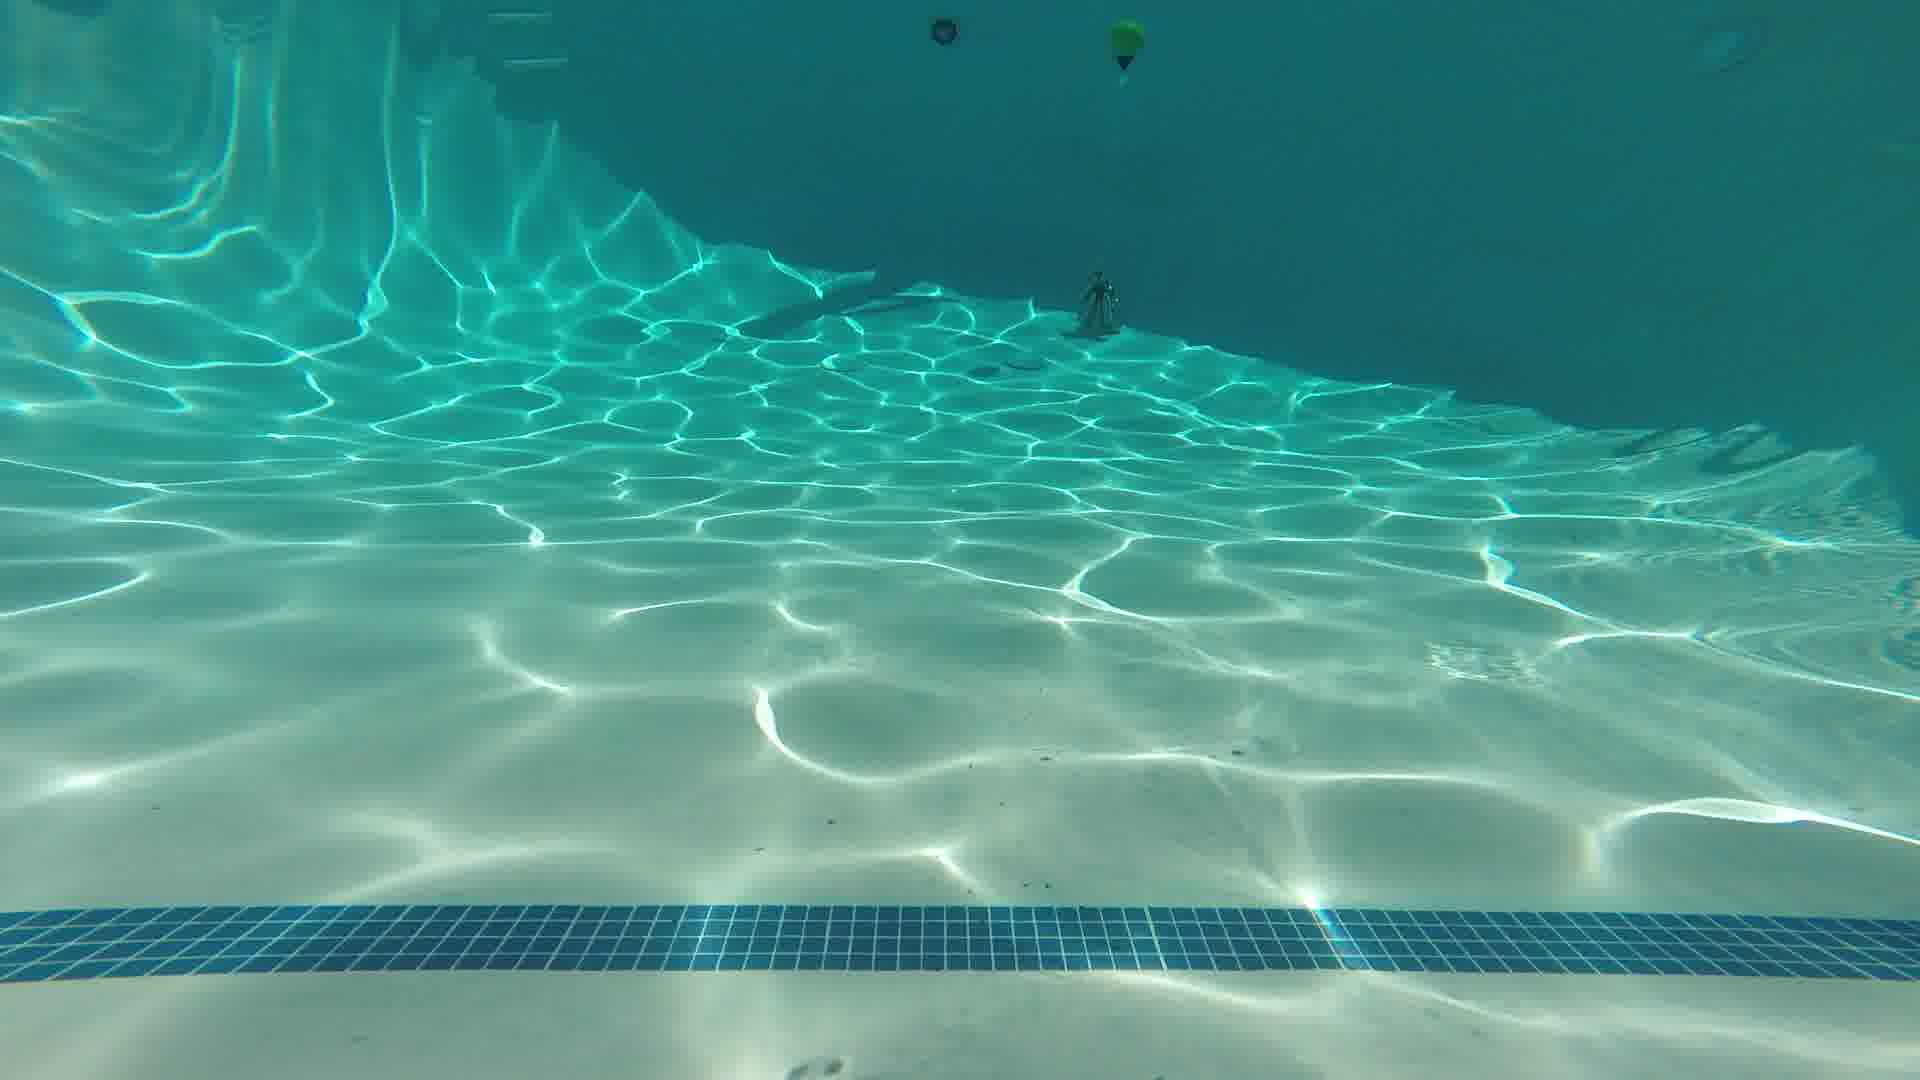yellow buoy: (1101, 16, 1149, 94)
